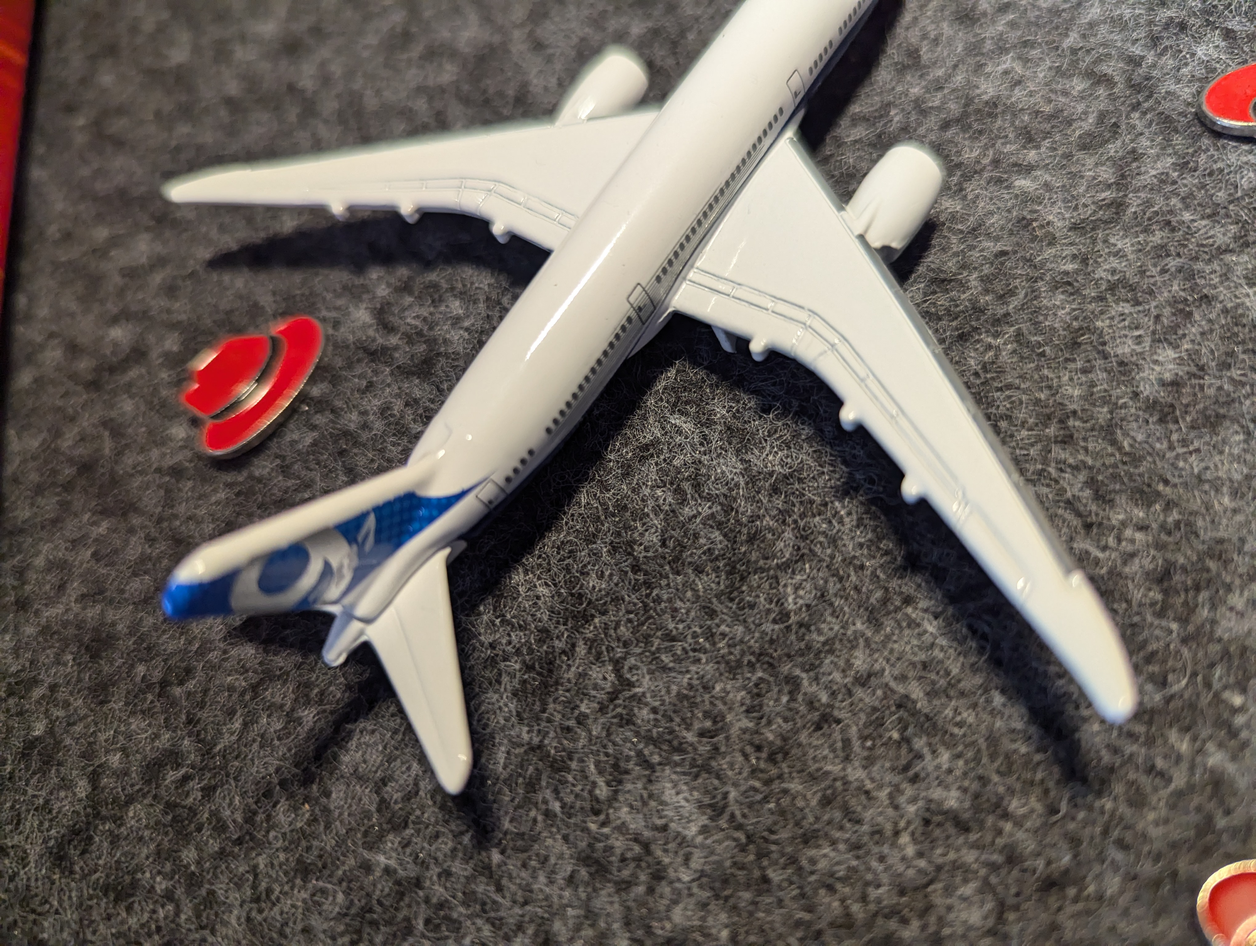Airplane: (102, 0, 1150, 837)
Red-Hat: (170, 293, 350, 458)
